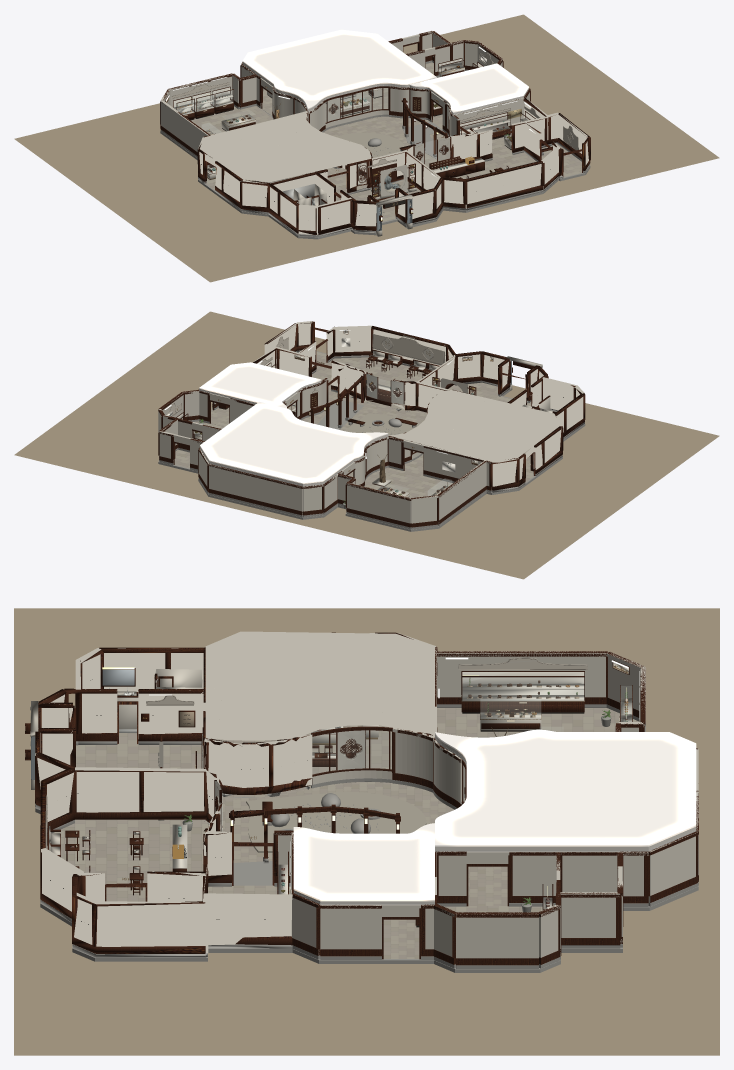
File: interior-mobile.glb
3 views of the same model, one above another, from view 1: azimuth 30°, elevation 25°; view 2: azimuth 150°, elevation 25°; view 3: azimuth 270°, elevation 25° (orthographic). The views are drawn at different scales.
Visible parts, largest first — view 1: Plinth, MAIN_FlatPlane, HistoryCeiling, Architecture_1_1, Architecture_0_0, Architecture_1_-1, Architecture_2_0, CRA_FlatPlane, Room_BOT, Architecture_0_2, Room_ENT, Architecture_1_0 (+15 smaller); view 2: Plinth, MAIN_FlatPlane, HistoryCeiling, Architecture_1_2, Architecture_0_2, Room_CAF, Architecture_1_1, Architecture_2_0, CRA_FlatPlane, Architecture_2_2, Architecture_0_0, Architecture_2_1 (+10 smaller); view 3: Plinth, MAIN_FlatPlane, HistoryCeiling, Architecture_2_2, Architecture_2_0, Architecture_1_1, Architecture_1_0, Room_BOT, Architecture_2_1, Architecture_0_0, CRA_FlatPlane, Room_CAF (+13 smaller).
Boxes of the visible parts, box(x1,y1,x2,y2) form: Plinth: box(14, 14, 719, 282); MAIN_FlatPlane: box(242, 29, 436, 108); HistoryCeiling: box(199, 111, 371, 182); Architecture_1_1: box(160, 86, 590, 239); Architecture_0_0: box(268, 158, 398, 236); Architecture_1_-1: box(409, 161, 543, 224); Architecture_2_0: box(456, 98, 590, 178); CRA_FlatPlane: box(410, 63, 528, 112); Room_BOT: box(165, 76, 289, 134); Architecture_0_2: box(160, 73, 267, 157); Room_ENT: box(336, 158, 437, 236); Architecture_1_0: box(337, 127, 477, 202); Plinth: box(14, 311, 719, 579); MAIN_FlatPlane: box(200, 402, 388, 483); HistoryCeiling: box(389, 390, 560, 461); Architecture_1_2: box(209, 437, 388, 517); Architecture_0_2: box(338, 460, 486, 529); Room_CAF: box(308, 329, 454, 411); Architecture_1_1: box(158, 351, 585, 531); Architecture_2_0: box(253, 321, 346, 402); CRA_FlatPlane: box(199, 362, 321, 408); Architecture_2_2: box(158, 392, 221, 494); Architecture_0_0: box(453, 366, 585, 439); Architecture_2_1: box(183, 378, 327, 424); Plinth: box(14, 608, 719, 1055); MAIN_FlatPlane: box(435, 729, 696, 846); HistoryCeiling: box(205, 631, 434, 740); Architecture_2_2: box(456, 831, 697, 968); Architecture_2_0: box(72, 830, 292, 957); Architecture_1_1: box(35, 738, 698, 972); Architecture_1_0: box(69, 734, 312, 863); Room_BOT: box(437, 657, 640, 737); Architecture_2_1: box(274, 830, 468, 968); Architecture_0_0: box(64, 647, 207, 768); CRA_FlatPlane: box(293, 823, 434, 901); Room_CAF: box(45, 780, 221, 901).
Size of the model in its own units: 60 by 4.04 by 40.
Materials: 77 (7 with a texture image).
